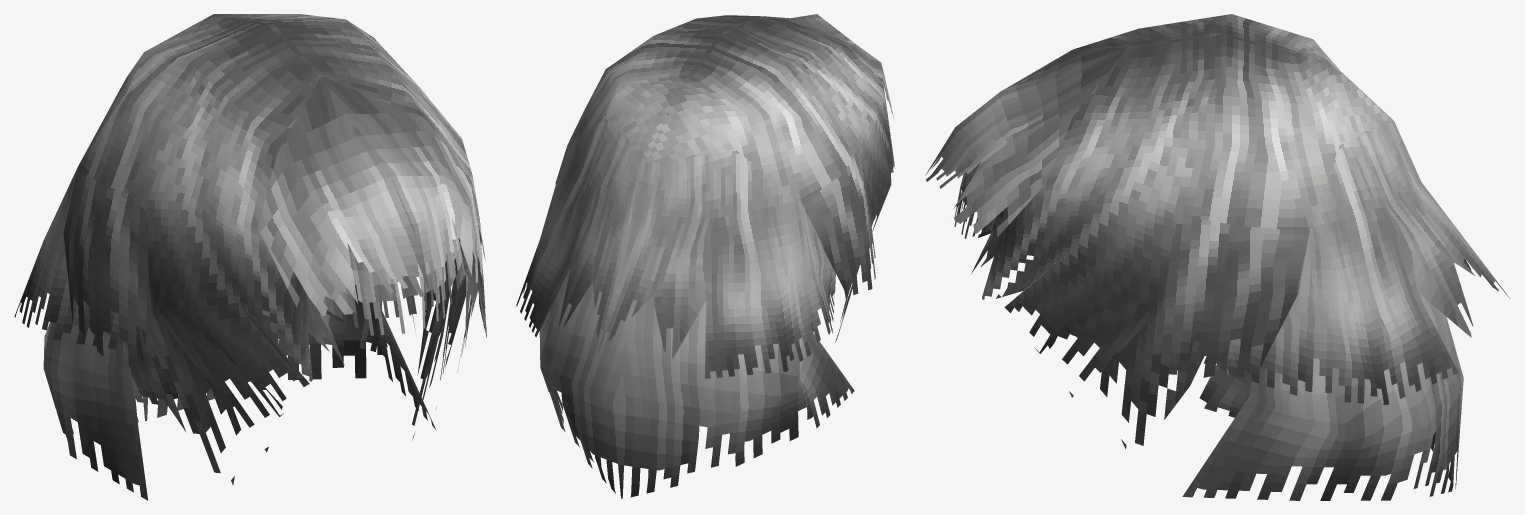
Rendered from m_hair025.obj.
The picture shows the model from 3 angles, left to right: view 1: azimuth 30°, elevation 25°; view 2: azimuth 150°, elevation 25°; view 3: azimuth 270°, elevation 25°; orthographic projection. The views are drawn at different scales.
Parts seen in each view (by area): view 1: editpl_m-0000-1819; view 2: editpl_m-0000-1819; view 3: editpl_m-0000-1819.
Boxes of the visible parts, x1,y1,x2,y2 form: editpl_m-0000-1819: (14, 14, 486, 500); editpl_m-0000-1819: (516, 14, 895, 498); editpl_m-0000-1819: (925, 14, 1510, 500).
Size of the model in its own units: 21.72 by 27.77 by 32.17.
1 material, 1 textured.
